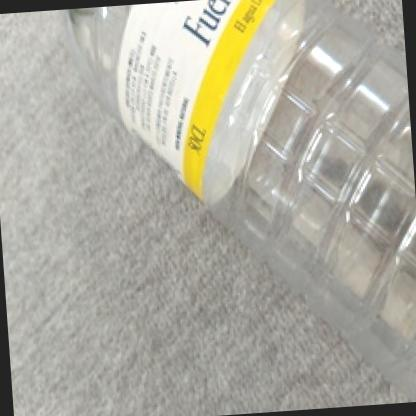plastic_bottles: (53, 0, 416, 416)
